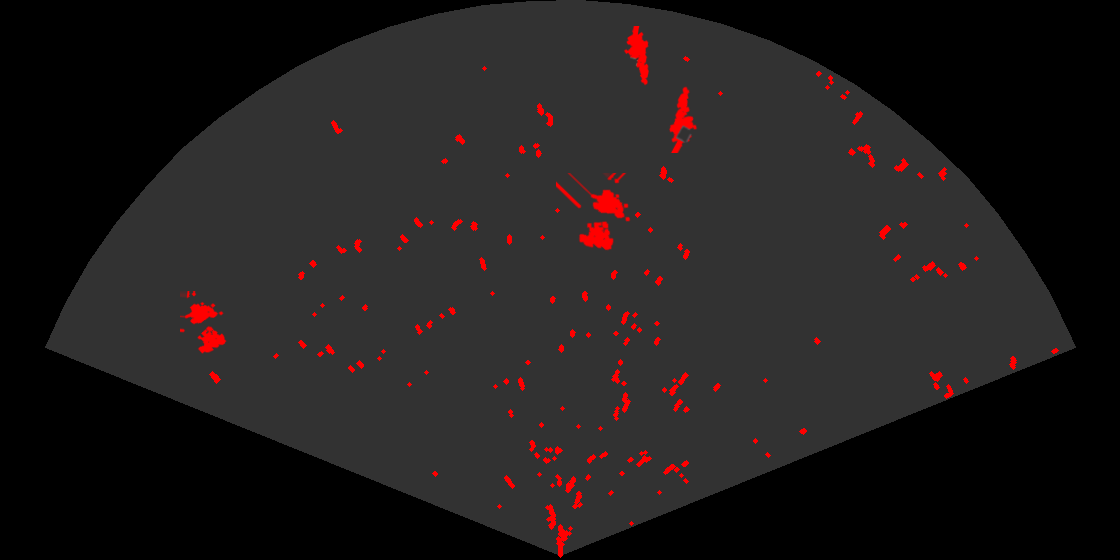cage: (556, 173, 632, 252), (180, 291, 228, 355)
frogman: (668, 85, 699, 153), (622, 26, 650, 86)
